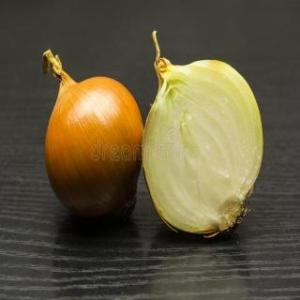onion: (142, 34, 262, 236), (41, 46, 143, 222)
